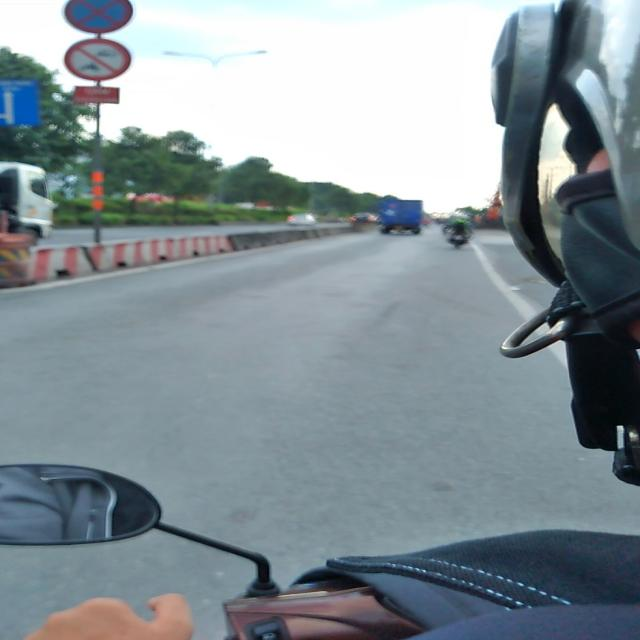Cam con lai: (60, 37, 137, 83)
Cam dung va do: (63, 0, 134, 34)
